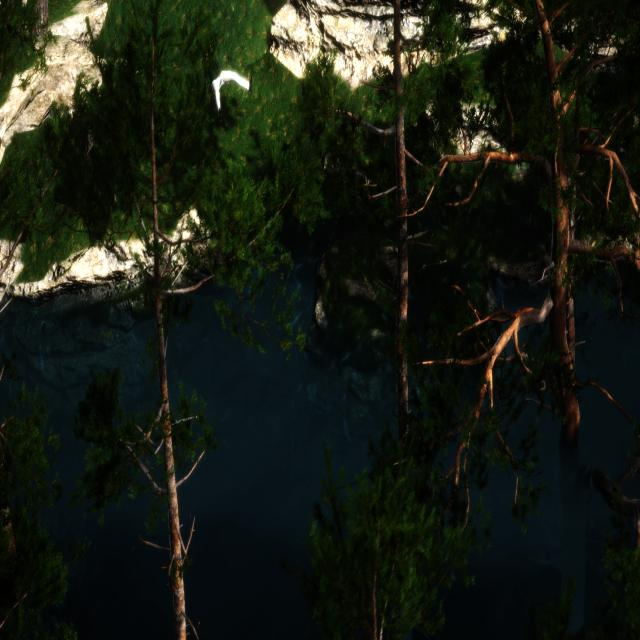Human: (203, 46, 260, 121)
